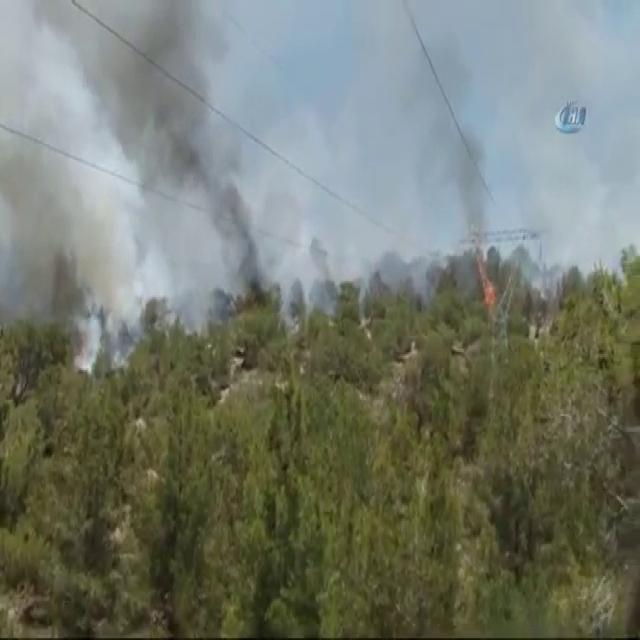Smoke: (0, 0, 312, 316), (360, 5, 534, 222)
